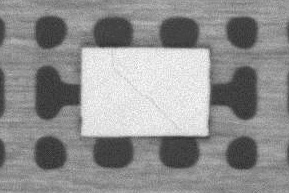DIE_CRACK: (112, 49, 177, 130)
